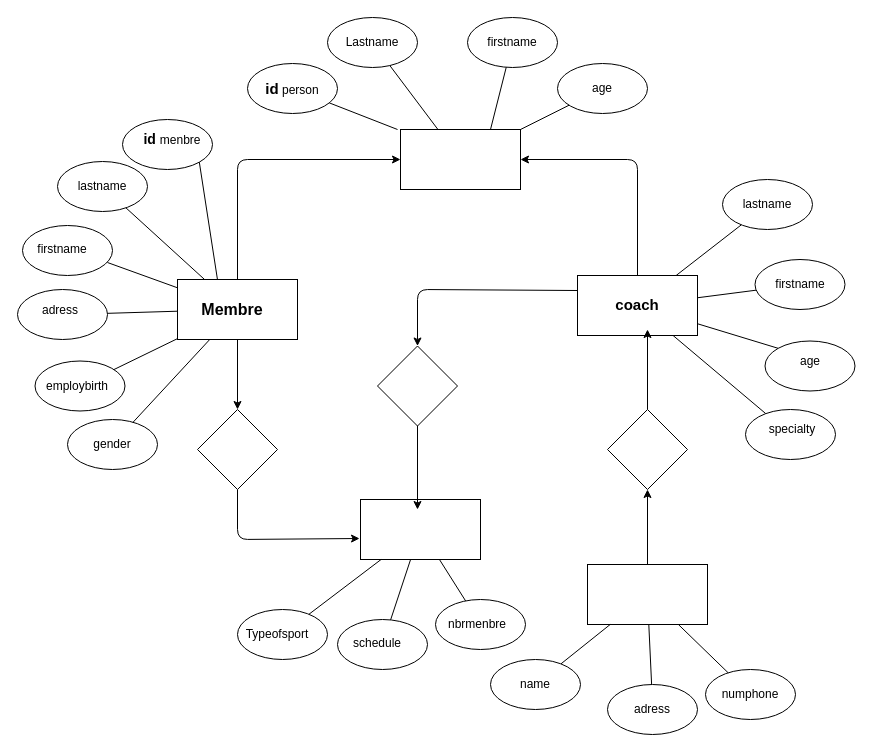
Some shapes in this 873 by 752 pixel diagram are drawn without their labels. The shapes that lost their labels are listed below. From the top down, each one's box as (x1, y1, x2, y2) in pixels, then its label:
(400, 128, 520, 190): Person
(376, 345, 458, 426): Lead
(196, 408, 278, 490): Register
(606, 408, 688, 490): Works
(360, 498, 480, 560): Sessions
(586, 564, 708, 624): Gymnasium
